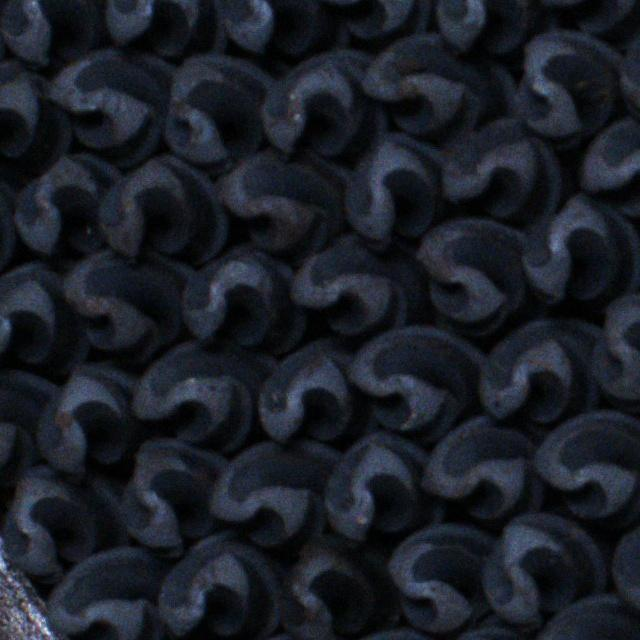tool_b: (131, 340, 281, 447), (362, 33, 514, 137), (348, 325, 488, 437), (50, 48, 181, 163), (1, 465, 130, 581), (213, 151, 353, 257), (62, 249, 197, 358), (209, 441, 345, 549), (483, 514, 609, 630), (288, 234, 426, 337), (96, 156, 228, 261), (263, 49, 391, 157), (518, 192, 638, 306), (156, 535, 284, 640), (324, 432, 446, 540), (178, 246, 305, 349), (161, 54, 275, 168), (417, 219, 530, 334), (478, 317, 601, 422), (423, 418, 546, 522), (254, 337, 374, 441), (279, 537, 401, 639), (513, 31, 623, 144), (120, 440, 230, 552), (439, 119, 562, 219), (534, 408, 640, 523), (386, 524, 494, 632), (46, 545, 171, 638), (12, 156, 122, 260), (344, 136, 444, 250), (35, 364, 138, 472), (0, 260, 87, 372), (0, 62, 69, 173), (214, 0, 348, 55), (2, 0, 111, 66), (101, 0, 228, 55), (0, 371, 59, 487), (429, 0, 550, 54), (578, 116, 640, 218), (593, 292, 640, 416), (531, 595, 640, 640), (310, 0, 431, 40), (532, 0, 638, 44), (612, 504, 640, 618), (617, 11, 640, 132), (0, 154, 19, 292)
